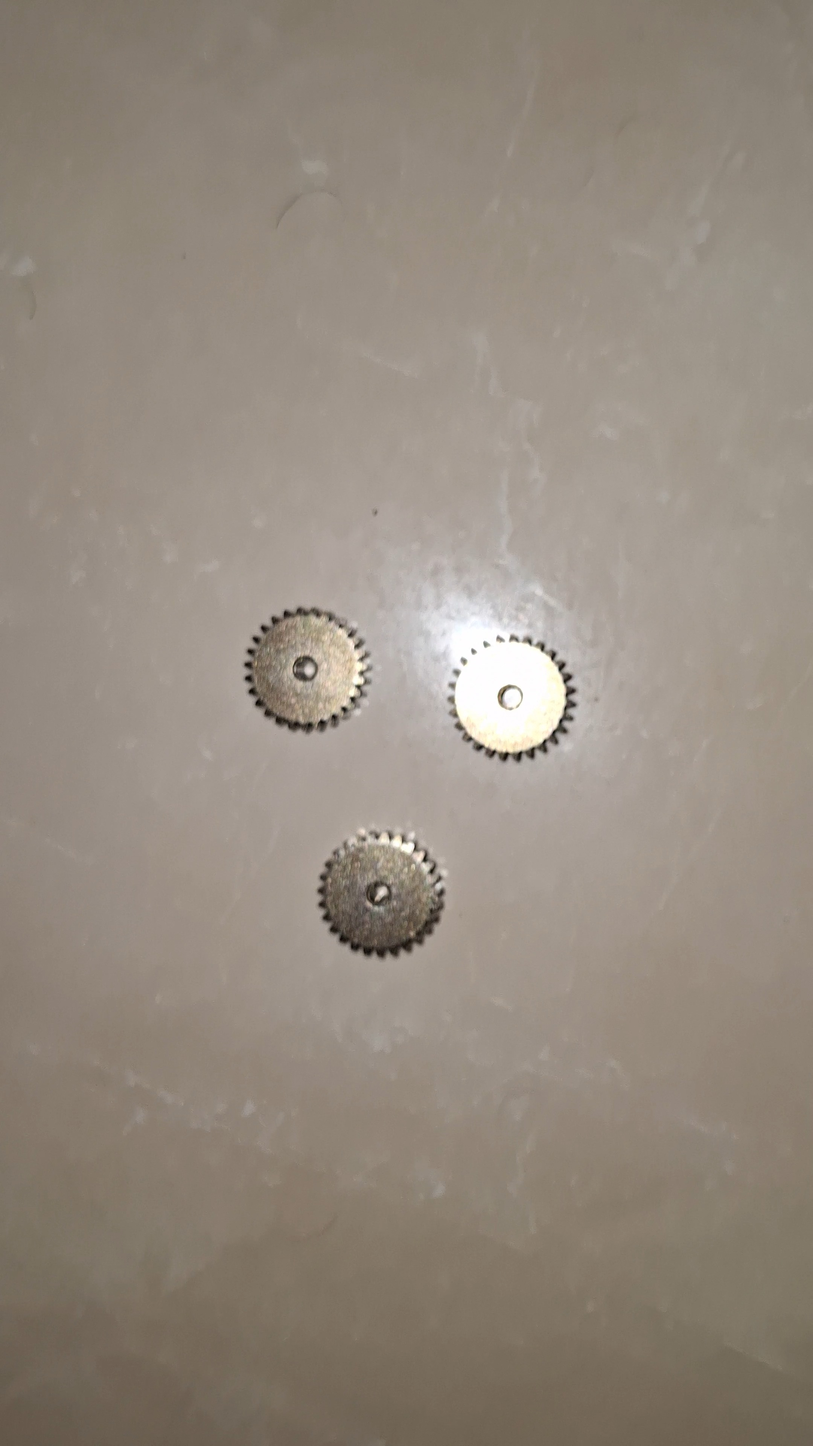spur gear: (319, 831, 443, 956), (451, 635, 575, 758), (246, 609, 368, 730)
